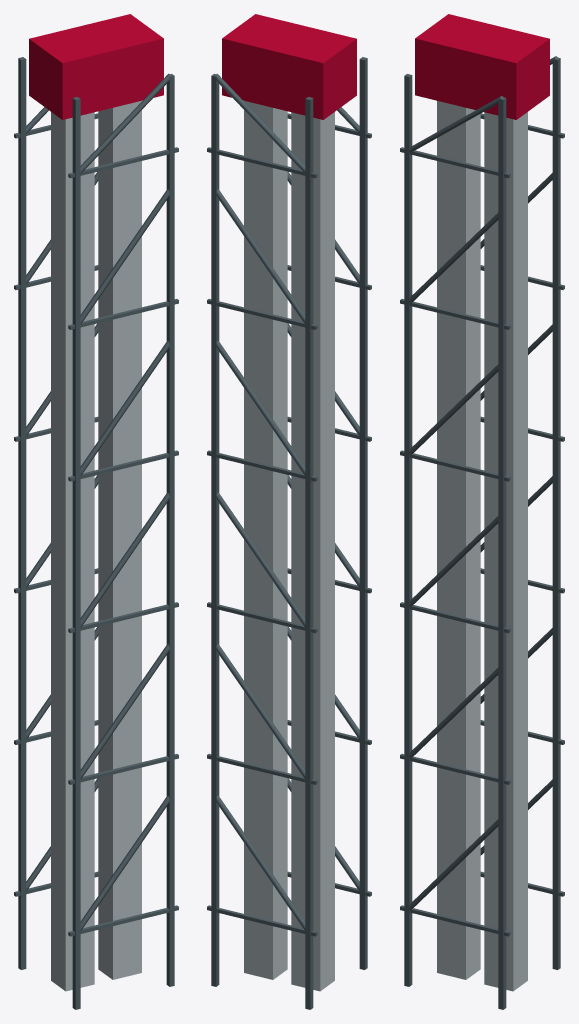
File: elevator.glb
3 views of the same model, side by side, from view 1: azimuth 30°, elevation 25°; view 2: azimuth 150°, elevation 25°; view 3: azimuth 330°, elevation 25° (orthographic).
Parts seen in each view (by area): view 1: elevator; view 2: elevator; view 3: elevator.
Part boxes in pixels (bbox=[...]): elevator: bbox=[14, 14, 178, 1009]; elevator: bbox=[207, 14, 371, 1009]; elevator: bbox=[400, 14, 564, 1009].
Size of the model in its own units: 3 by 24.75 by 2.74.
